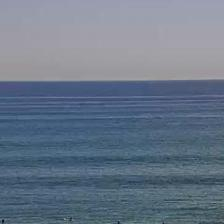surfer: (66, 216, 73, 220), (1, 218, 5, 224), (117, 220, 122, 224)
